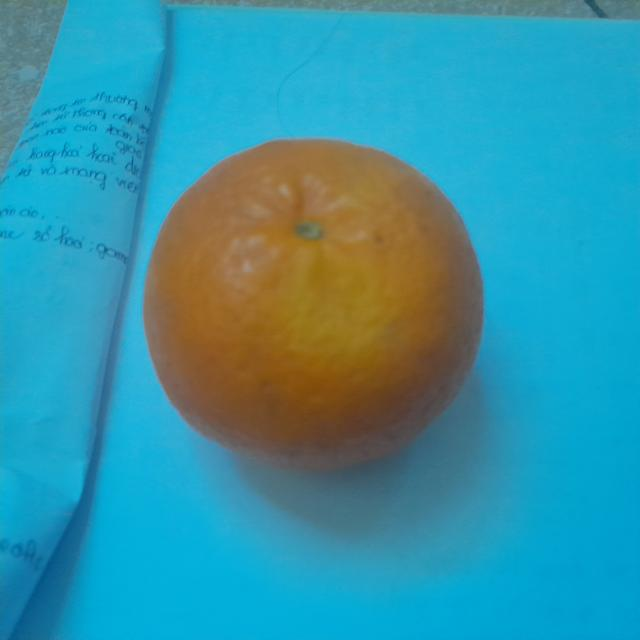Cam: (140, 137, 489, 467)
